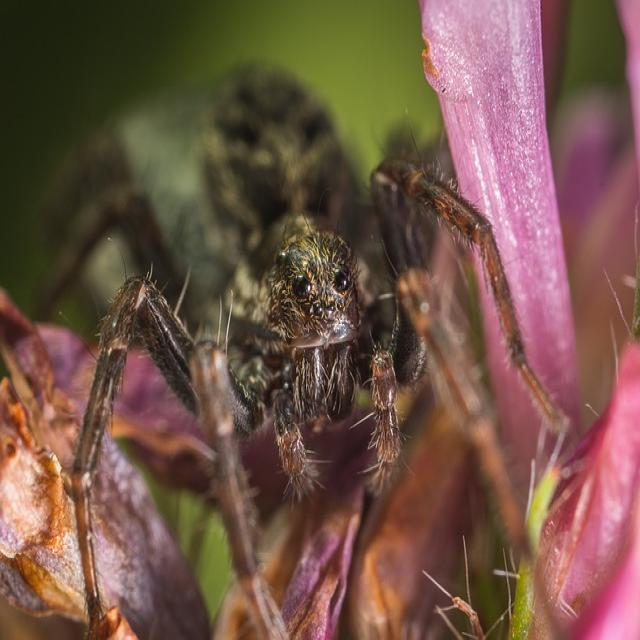spyder: (70, 68, 425, 637), (401, 166, 560, 418)
